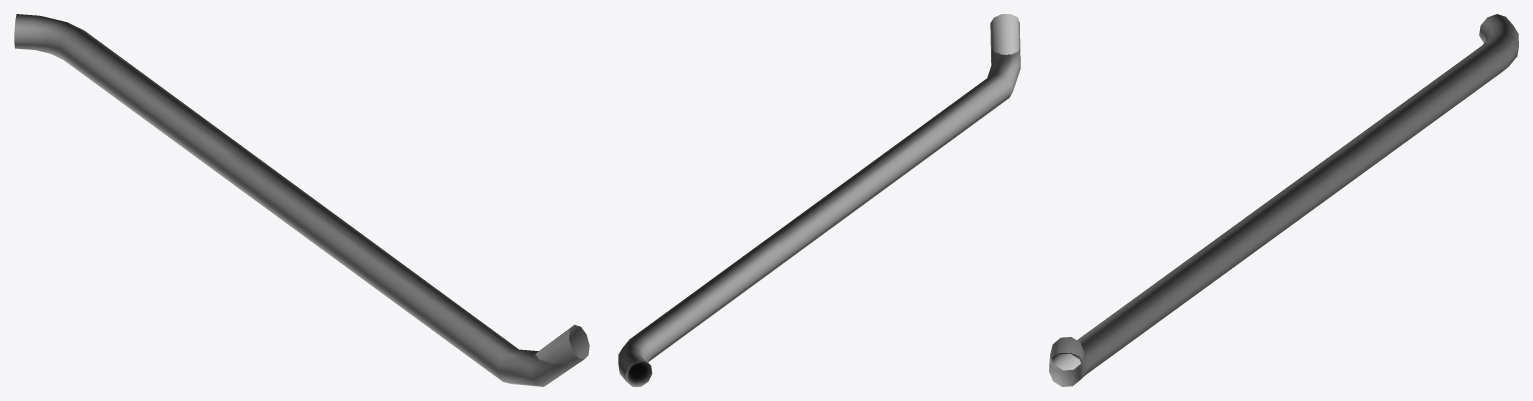
Rendered from Olschool_1_Sidepanel_1_R.fbx.
3 renders of one model, left to right at view 1: azimuth 30°, elevation 25°; view 2: azimuth 150°, elevation 25°; view 3: azimuth 330°, elevation 25°, orthographic. The views are drawn at different scales.
Parts seen in each view (by area): view 1: Olschool_1_Sidepanel_1_R; view 2: Olschool_1_Sidepanel_1_R; view 3: Olschool_1_Sidepanel_1_R.
Part boxes in pixels (<box>): Olschool_1_Sidepanel_1_R: <box>14,14,589,386</box>; Olschool_1_Sidepanel_1_R: <box>618,14,1020,386</box>; Olschool_1_Sidepanel_1_R: <box>1049,14,1518,386</box>.
Size of the model in its own units: 137 by 124 by 1545.
